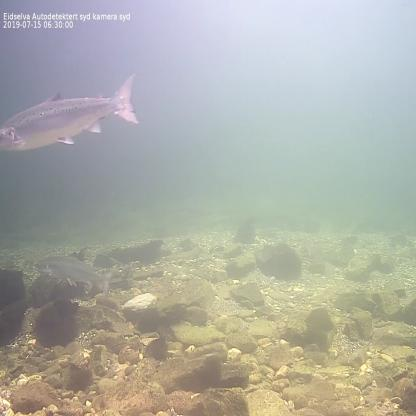salmon: (0, 70, 141, 154), (32, 249, 116, 300)
